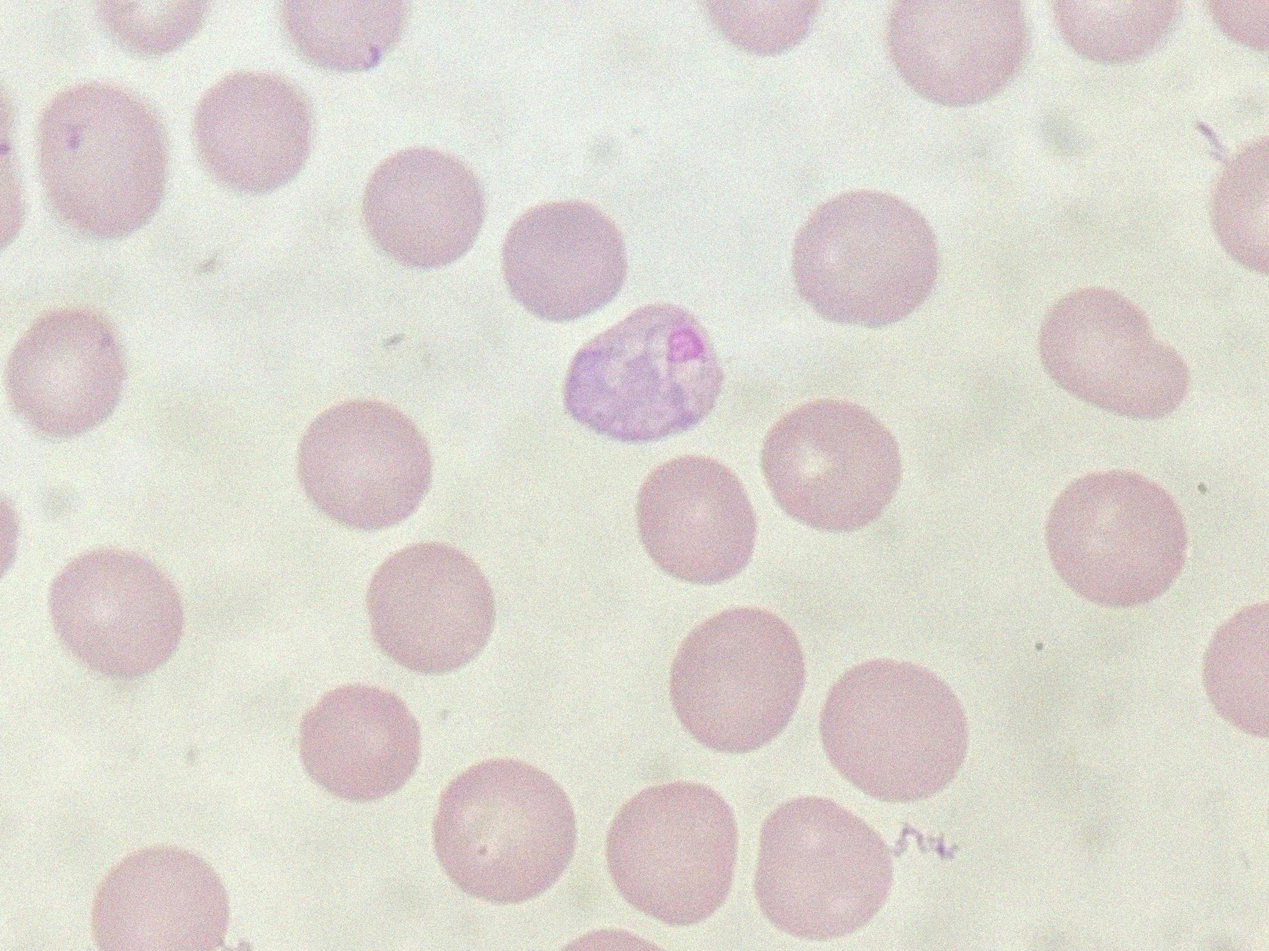Infected: (565, 304, 721, 443)
Uninfected: (821, 658, 967, 805), (433, 755, 577, 903), (752, 797, 898, 940), (791, 187, 940, 327), (1038, 285, 1189, 422), (38, 85, 170, 239), (606, 782, 740, 929), (673, 607, 806, 754), (45, 544, 181, 682), (1049, 468, 1185, 603), (765, 394, 901, 526), (365, 544, 499, 677), (297, 400, 434, 529), (636, 450, 759, 586), (12, 303, 130, 440), (296, 681, 424, 805), (504, 195, 627, 324), (192, 68, 317, 190), (93, 845, 235, 951), (891, 0, 1029, 106), (365, 149, 485, 267), (285, 0, 405, 73)
